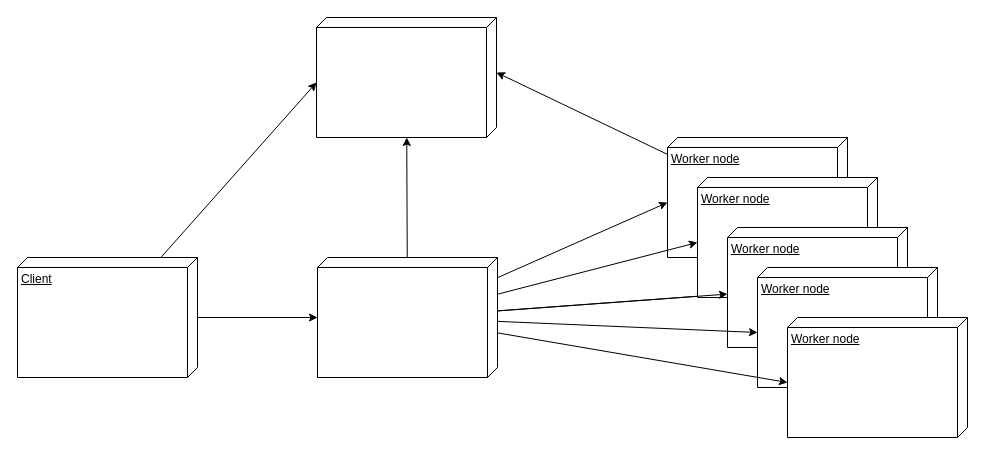
Image size: 985x455. Some labels were removed from this diagram. The shapes that lost their labels are listed below. From the top down, each one's box as (x1, y1, x2, y2) in pixels, then its label:
(316, 16, 496, 138): Network file system
(316, 256, 498, 378): Master node
